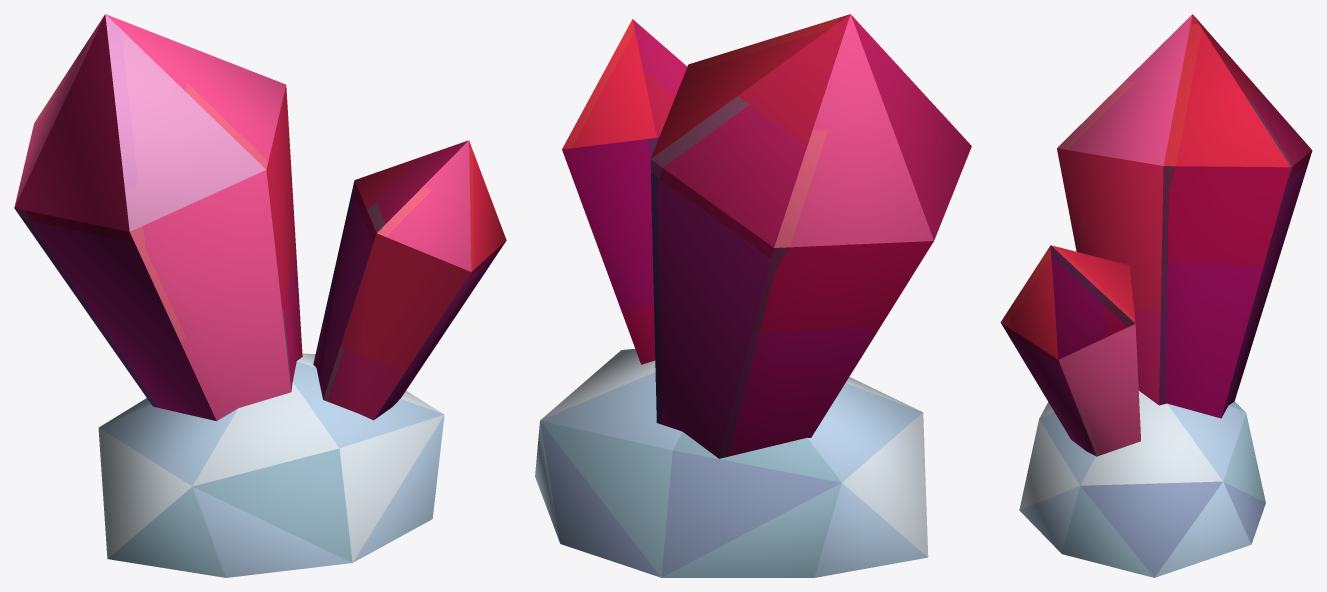
The model's file is fg_ruby.dae.
3 renders of one model, left to right at view 1: azimuth 30°, elevation 25°; view 2: azimuth 150°, elevation 25°; view 3: azimuth 270°, elevation 25°, orthographic. The views are drawn at different scales.
Parts seen in each view (by area): view 1: fg_ruby; view 2: fg_ruby; view 3: fg_ruby.
Part boxes in pixels (x1,y1,x2,y2): fg_ruby: (14, 14, 506, 577); fg_ruby: (535, 14, 971, 577); fg_ruby: (1000, 14, 1312, 577).
Bounding box in the file's own units: 12.78 × 15.34 × 9.96.
Materials: 1 (1 with a texture image).
